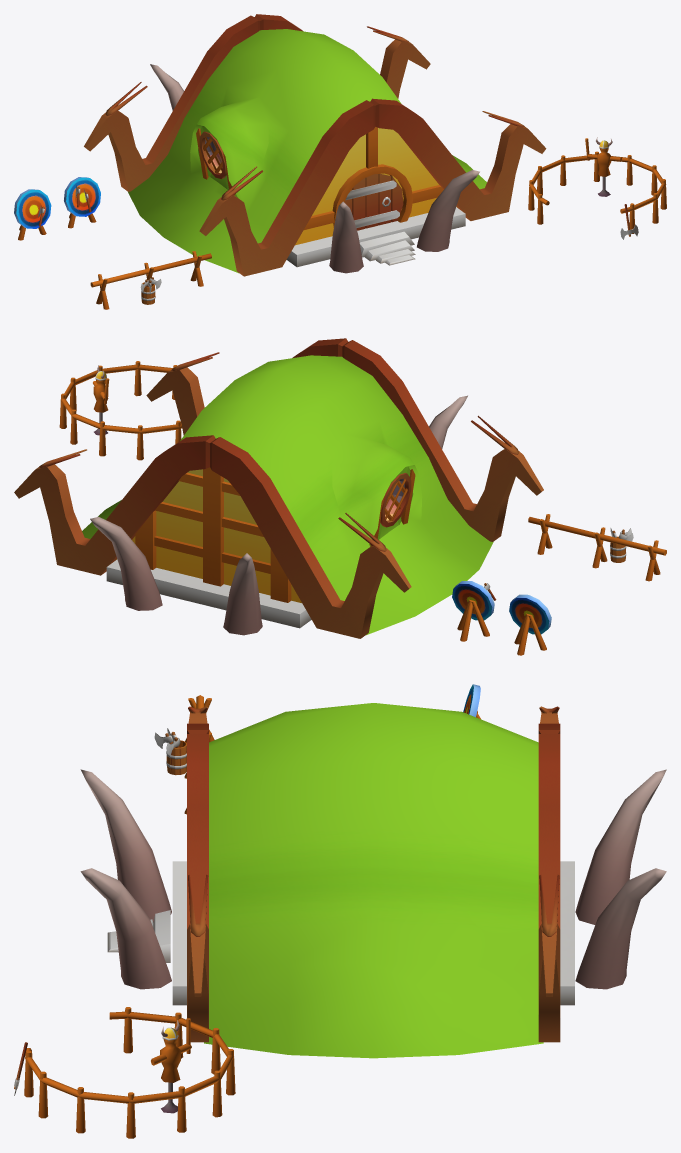
Rendered from VikingHouse_04_XXL.fbx.
The picture shows the model from 3 angles, top to bottom: view 1: azimuth 30°, elevation 25°; view 2: azimuth 150°, elevation 25°; view 3: azimuth 270°, elevation 25°; orthographic projection. The views are drawn at different scales.
Parts seen in each view (by area): view 1: VikingHouse_04_XXL, backyard; view 2: VikingHouse_04_XXL, backyard; view 3: VikingHouse_04_XXL, backyard.
Part boxes in pixels (x1,y1,x2,y2): VikingHouse_04_XXL: (14, 14, 546, 309); backyard: (528, 137, 666, 239); VikingHouse_04_XXL: (14, 338, 666, 655); backyard: (59, 361, 182, 460); VikingHouse_04_XXL: (80, 684, 666, 1058); backyard: (14, 1007, 235, 1138).
Bounding box in the file's own units: 1149 × 325 × 789.
